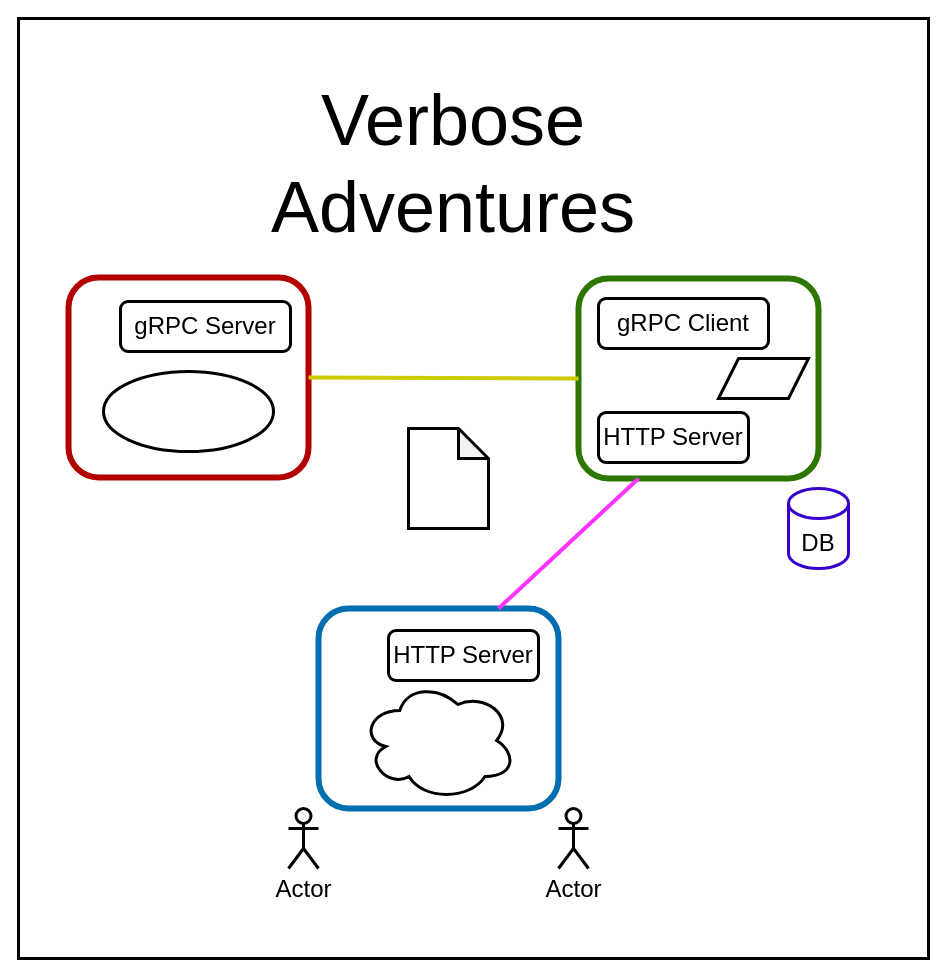
Image size: 947x977. Some labels were removed from this diagram. The box of each missing label's shape, as (x1, y1, x2, y2) in pixels:
DAO: (716, 356, 810, 400)
Logic Engine: (102, 370, 274, 452)
UI: (359, 678, 517, 802)
